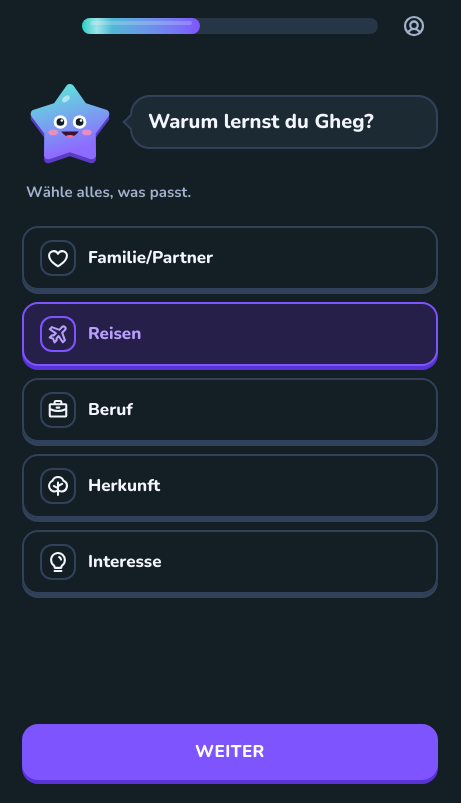
Test case: OnboardingPage › says so when the answers cannot be saved
This screenshot has width=461, height=803.
Click the button "Weiter". click: (230, 752)
box: [22,724,438,780]
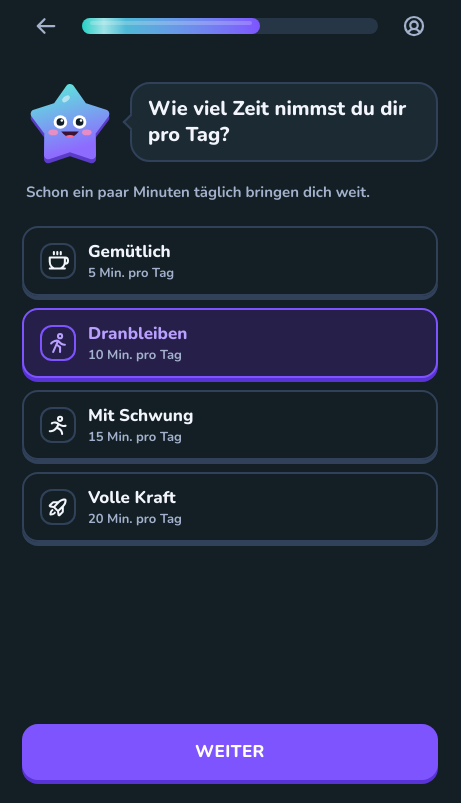
Click the button "Weiter". click: (230, 752)
box: [22,724,438,780]
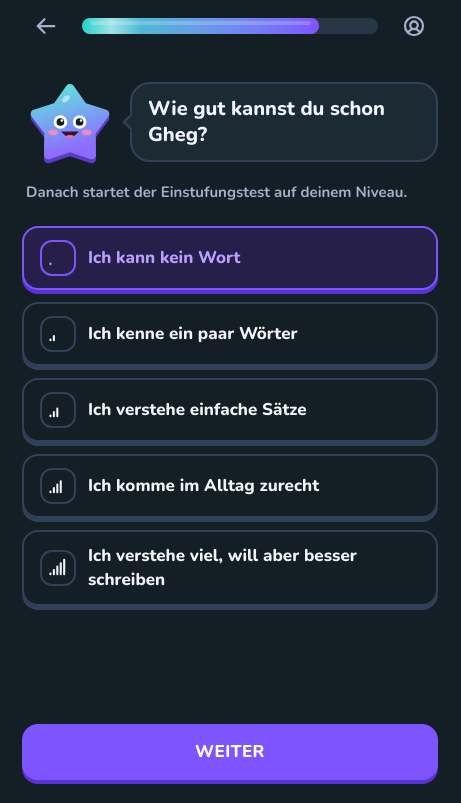
Click the button "Weiter". click: (230, 752)
box: [22,724,438,780]
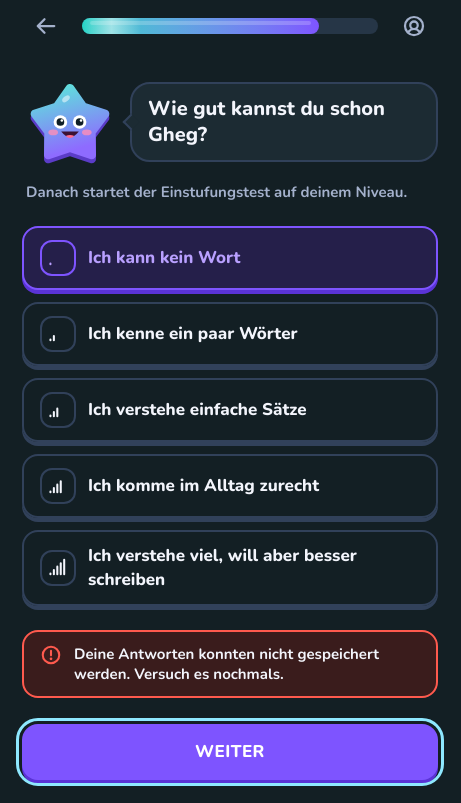
Now the message shows "Deine Antworten konnten nicht gespeichert werden.", box [74,644,379,684]
